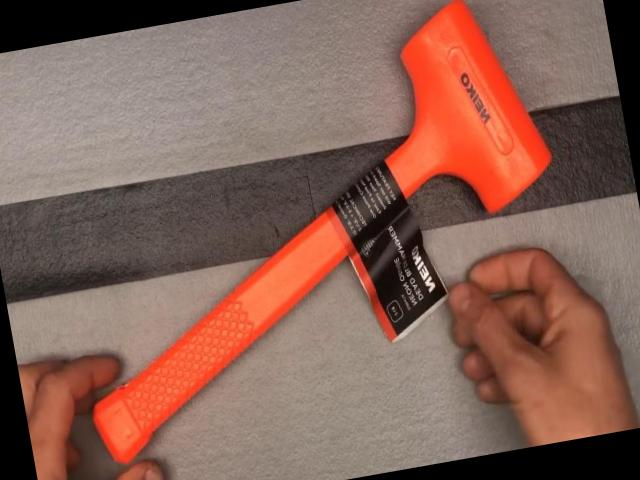hammer: (32, 0, 589, 467)
